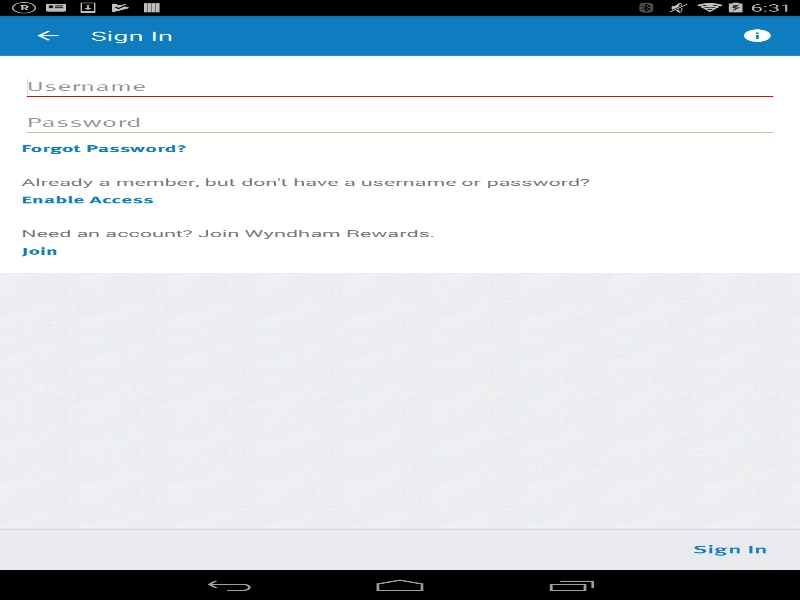Button: (21, 137, 187, 165), (21, 188, 154, 216), (10, 15, 85, 55), (682, 535, 778, 565), (21, 240, 57, 267), (639, 535, 660, 565)
Input: (21, 72, 778, 101), (21, 108, 778, 137)
